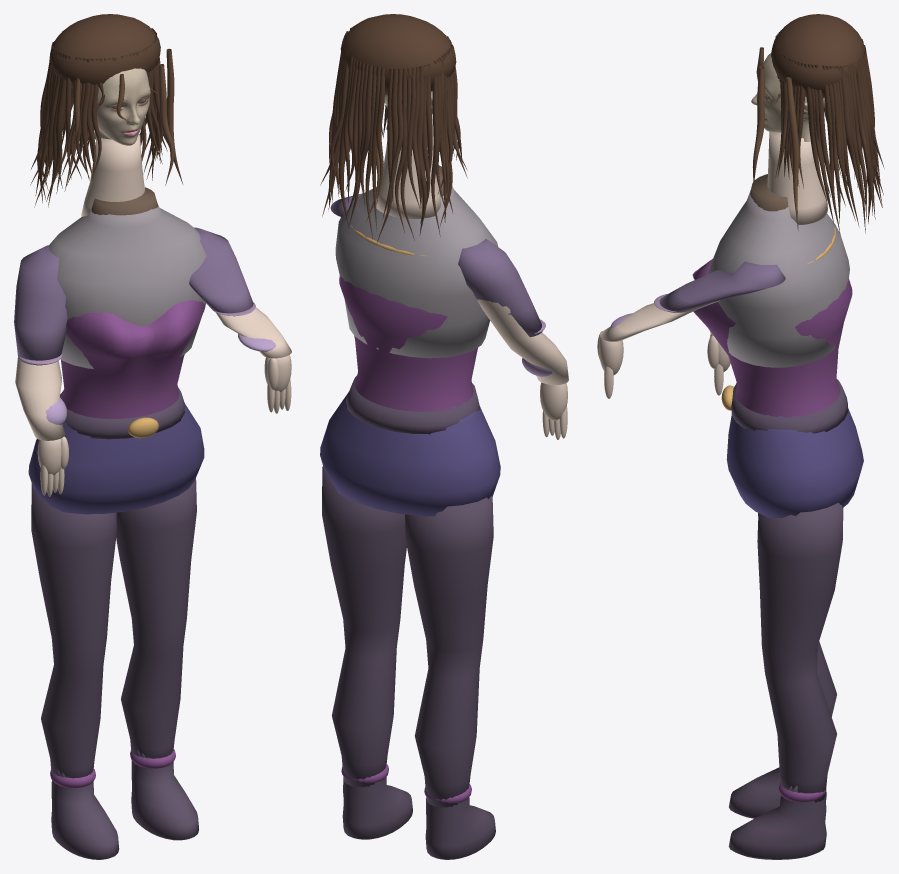
File: katie_punch_3.glb
3 views of the same model, side by side, from view 1: azimuth 30°, elevation 25°; view 2: azimuth 150°, elevation 25°; view 3: azimuth 270°, elevation 25° (orthographic). The views are drawn at different scales.
Parts seen in each view (by area): view 1: Continuous trouser leg, Continuous trouser leg.001, Katie linen underlayer, Violet sweetheart bodice, Fitted hip panel, Katie hair locks, Katie hair crown, Katie smooth sleeve, Fitted boot, Fitted boot.001, Katie smooth sleeve.001, Katie natural neck (+7 smaller); view 2: Continuous trouser leg, Continuous trouser leg.001, Katie hair locks, Katie linen underlayer, Fitted hip panel, Violet sweetheart bodice, Katie hair crown, Katie smooth sleeve, Fitted boot.001, Fitted boot, Waist belt, Continuous arm (+3 smaller); view 3: Continuous trouser leg.001, Katie linen underlayer, Fitted hip panel, Katie hair locks, Violet sweetheart bodice, Katie hair crown, Fitted boot.001, Katie smooth sleeve.001, Katie natural neck, Waist belt, Katie highlighted locks, Fitted boot (+5 smaller).
Part boxes in pixels (<box>): Continuous trouser leg: <box>31,483,116,778</box>; Continuous trouser leg.001: <box>116,478,196,758</box>; Katie linen underlayer: <box>49,205,206,368</box>; Violet sweetheart bodice: <box>61,300,205,418</box>; Fitted hip panel: <box>28,403,204,514</box>; Katie hair locks: <box>30,28,169,207</box>; Katie hair crown: <box>49,14,160,88</box>; Katie smooth sleeve: <box>14,245,67,365</box>; Fitted boot: <box>51,766,119,859</box>; Fitted boot.001: <box>131,746,198,840</box>; Katie smooth sleeve.001: <box>189,227,253,313</box>; Katie natural neck: <box>81,134,145,216</box>; Continuous trouser leg: <box>405,496,493,807</box>; Continuous trouser leg.001: <box>322,466,406,787</box>; Katie hair locks: <box>320,27,467,242</box>; Katie linen underlayer: <box>335,186,498,358</box>; Fitted hip panel: <box>320,392,500,516</box>; Violet sweetheart bodice: <box>339,276,477,411</box>; Katie hair crown: <box>340,14,456,95</box>; Katie smooth sleeve: <box>458,238,542,337</box>; Fitted boot.001: <box>342,762,412,839</box>; Fitted boot: <box>425,782,495,859</box>; Waist belt: <box>346,376,480,434</box>; Continuous arm: <box>477,299,568,384</box>; Continuous trouser leg.001: <box>757,502,843,802</box>; Katie linen underlayer: <box>707,190,849,367</box>; Fitted hip panel: <box>726,408,863,518</box>; Katie hair locks: <box>774,30,884,234</box>; Violet sweetheart bodice: <box>692,259,852,417</box>; Katie hair crown: <box>771,14,864,98</box>; Fitted boot.001: <box>728,786,826,859</box>; Katie smooth sleeve.001: <box>659,261,785,312</box>; Katie natural neck: <box>767,132,827,224</box>; Waist belt: <box>731,379,848,433</box>; Katie highlighted locks: <box>752,47,865,231</box>; Fitted boot: <box>729,767,826,818</box>.
Bounding box in the file's own units: 0.6184 × 2.24 × 0.7201.
15 materials, 2 textured.
